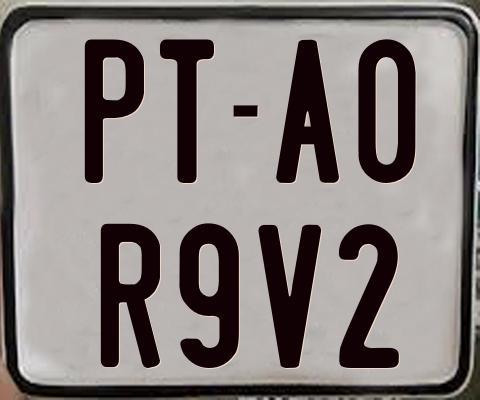0: (355, 37, 414, 182)
2: (338, 222, 400, 369)
9: (179, 223, 241, 372)
A: (276, 39, 343, 182)
P: (83, 38, 144, 187)
R: (98, 222, 160, 368)
T: (159, 38, 219, 186)
V: (256, 222, 323, 367)
